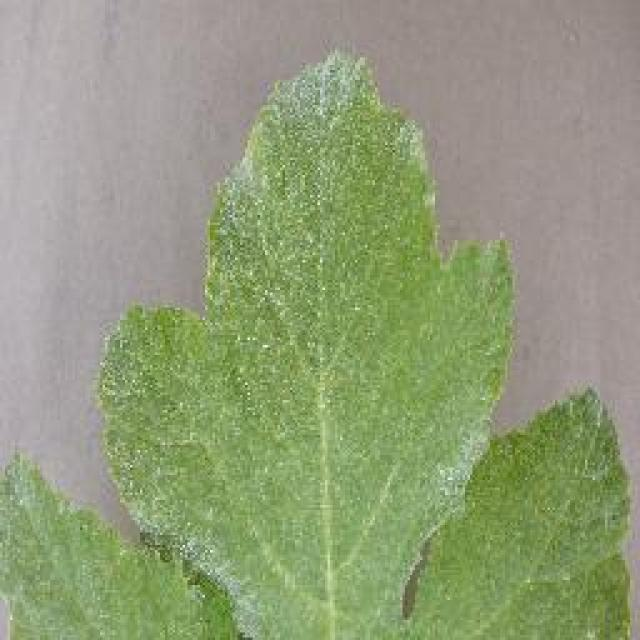Squ_Powdery_mildew: (177, 126, 508, 614)
